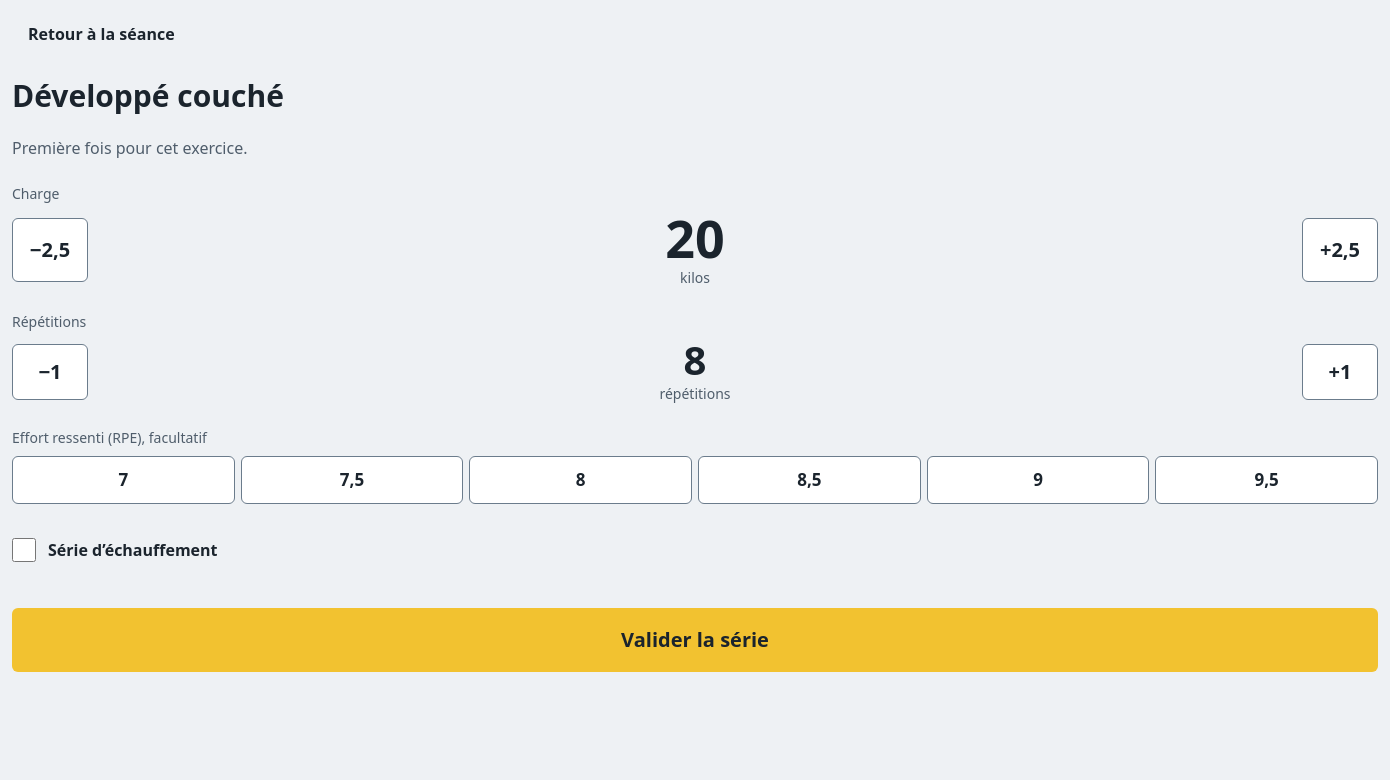
Test: SetEntry › annonce un nouveau record
The width and height of the screenshot is (1390, 780).
Check: the text "Première fois pour cet exercice." is shown, box [12,136,248,158]
Click the button "Valider la série" at (695, 640), box [12,608,1378,672]
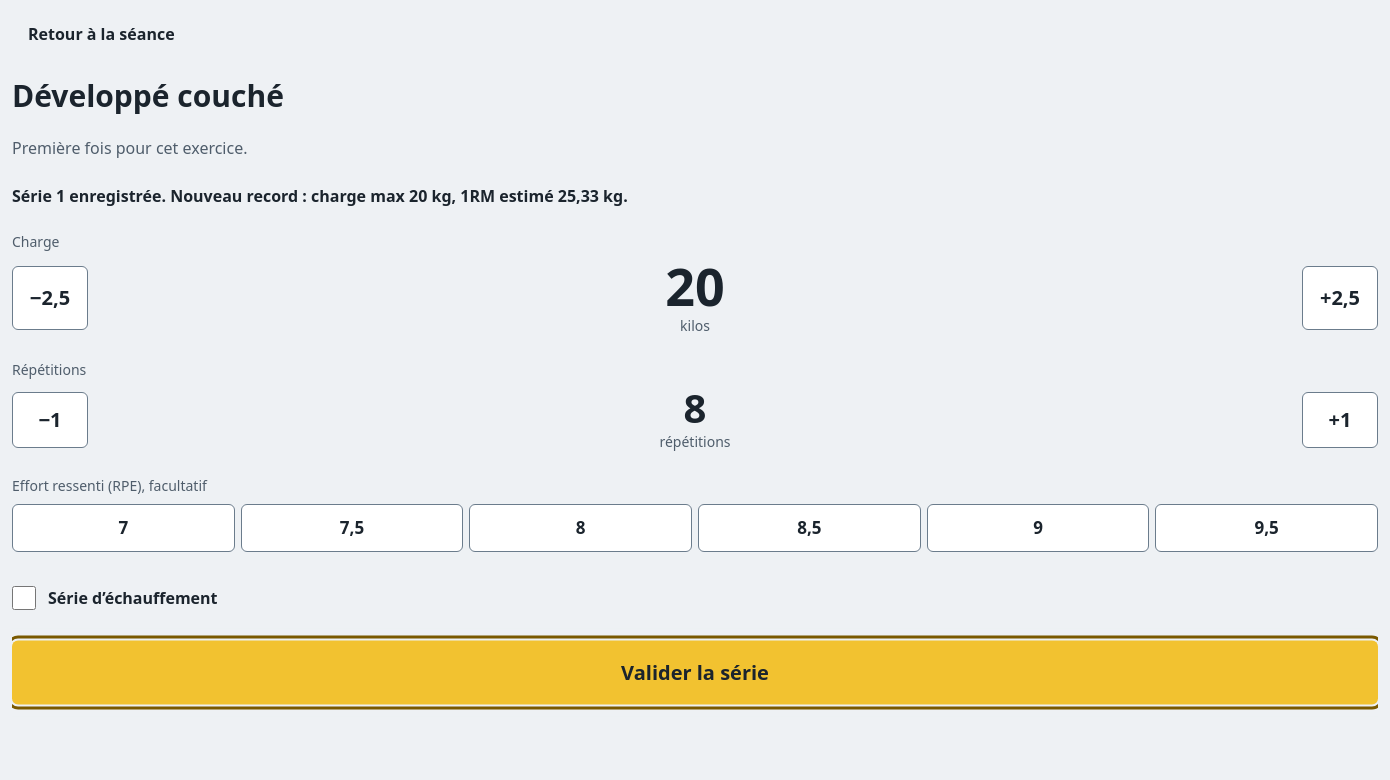
Check: the text "Série 1 enregistrée. Nouveau record : charge max 20 kg, 1RM estimé 25,33 kg." is shown, box [12,184,628,206]
